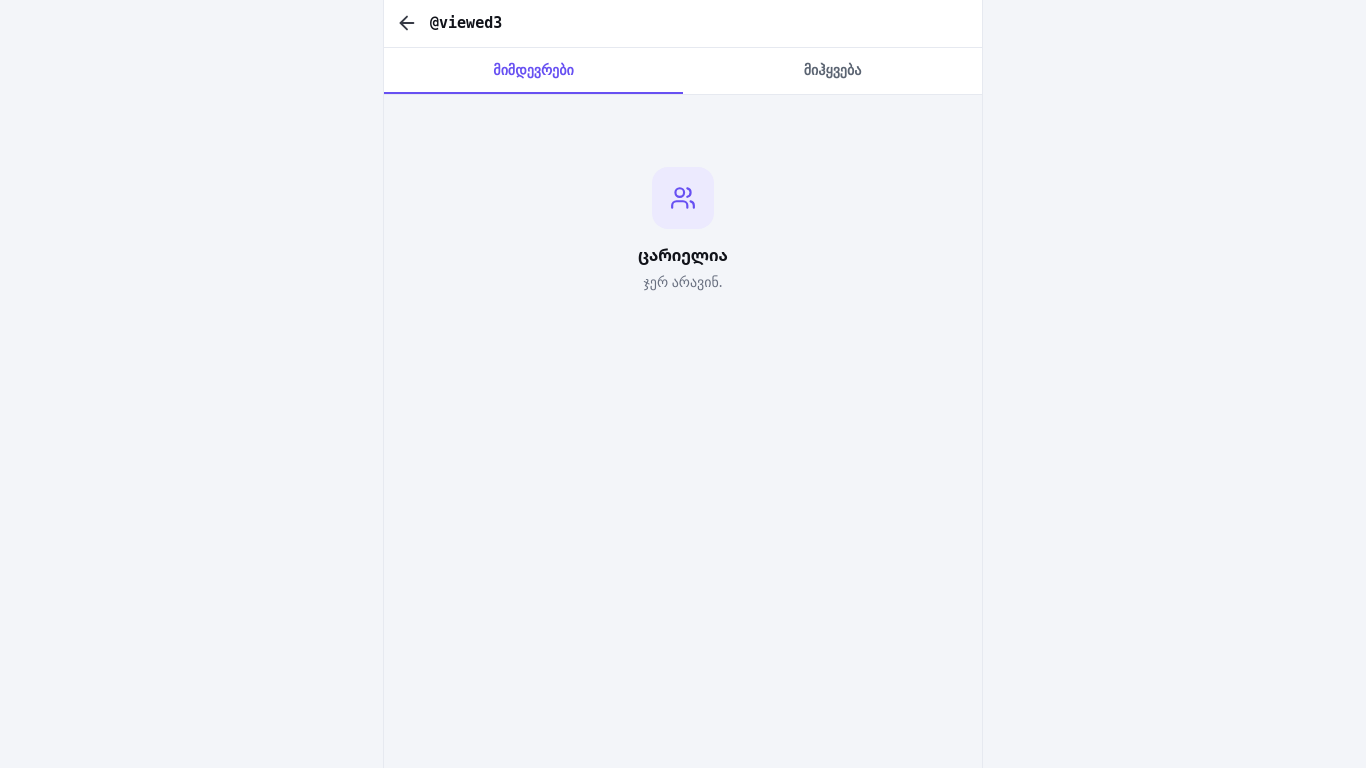
Test: FollowList › switches to the following tab and re-fetches
Click the button "მიჰყვება" at x=832, y=70, box [683,48,982,94]
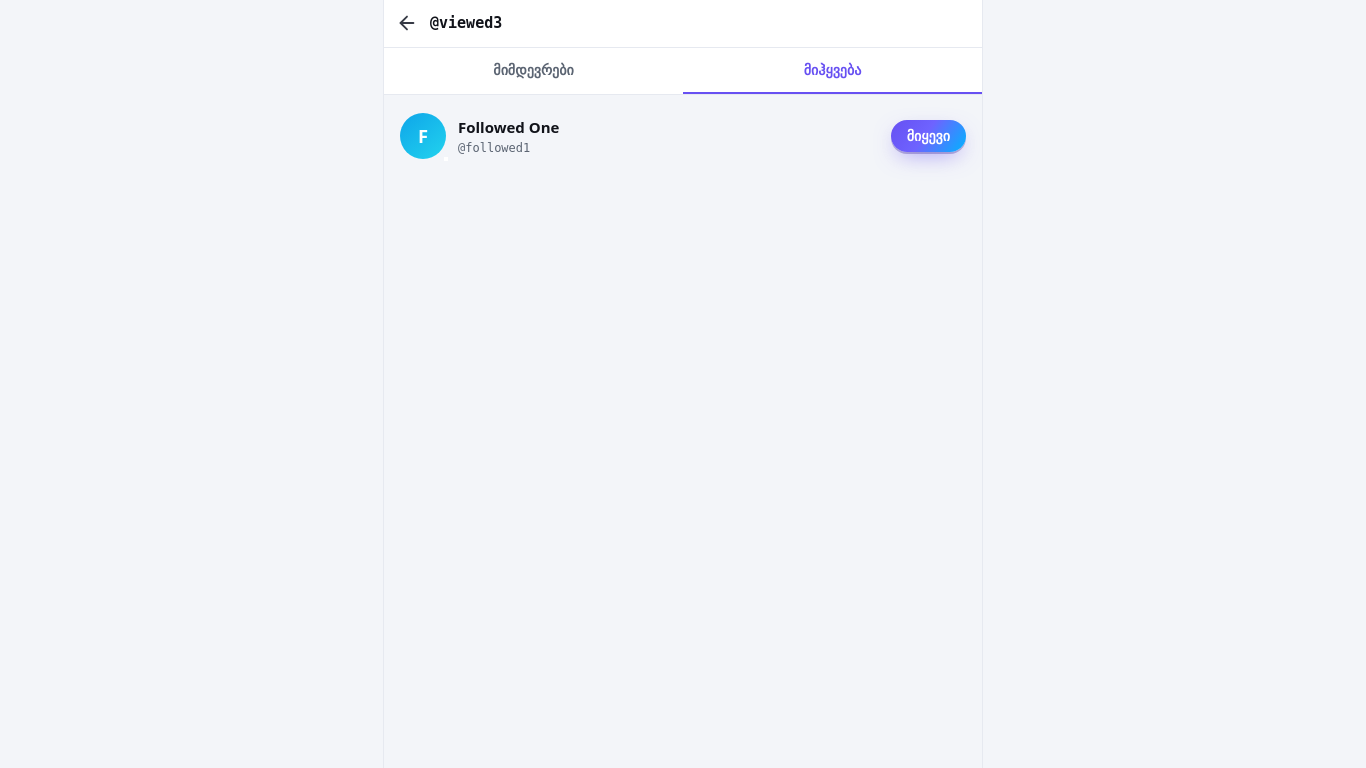
Check: the text "Followed One" is shown, box [458,116,559,138]
